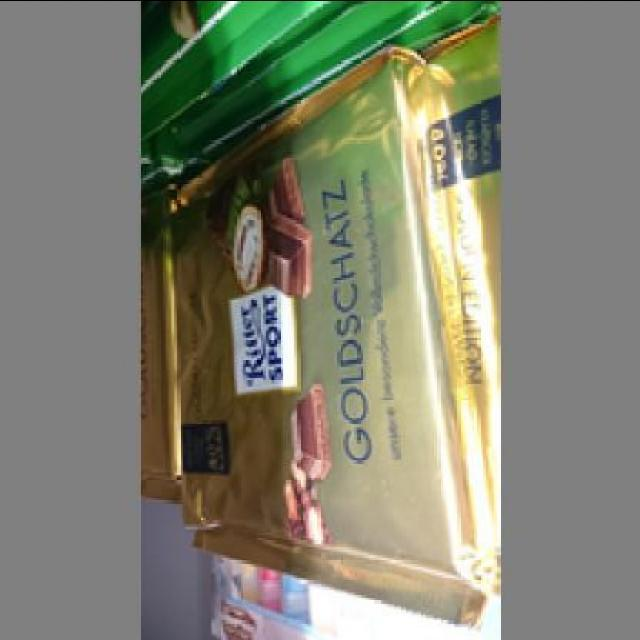Chocolate bar: (172, 52, 470, 576)
